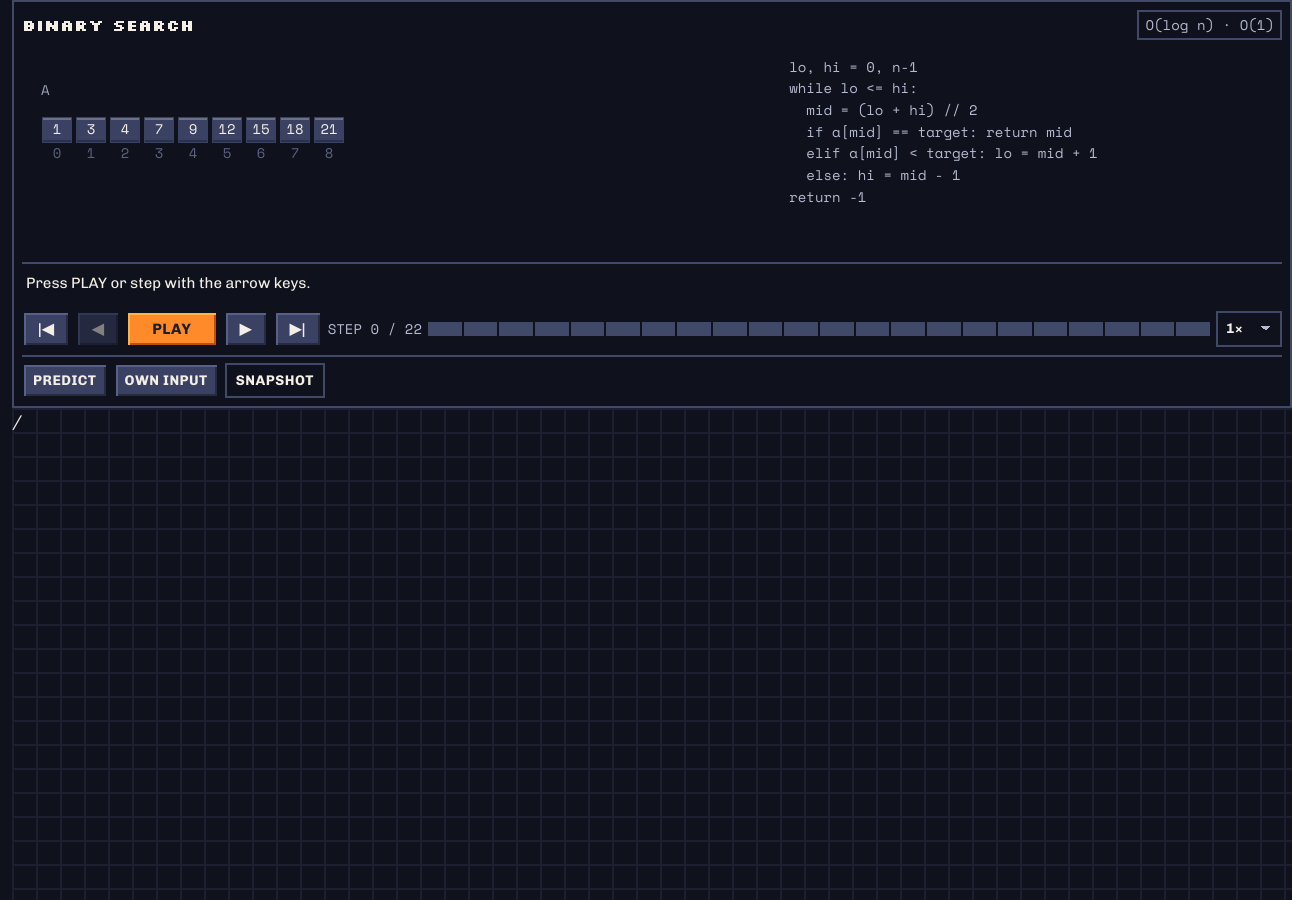
Test: AlgoPlayer (labs contract §4) › exposes the player in the light DOM: region, title, complexity, counter, caption, active code line (§4.1)
The image size is (1292, 900).
expect the element named "Player: " is shown: met, box [12,0,1291,408]
expect the text with test id "lab-complexity" reads "O(log n) · O(1)": met, box [1146,14,1274,35]
Click the button named "Step forward": (246, 328) [224,310,268,346]
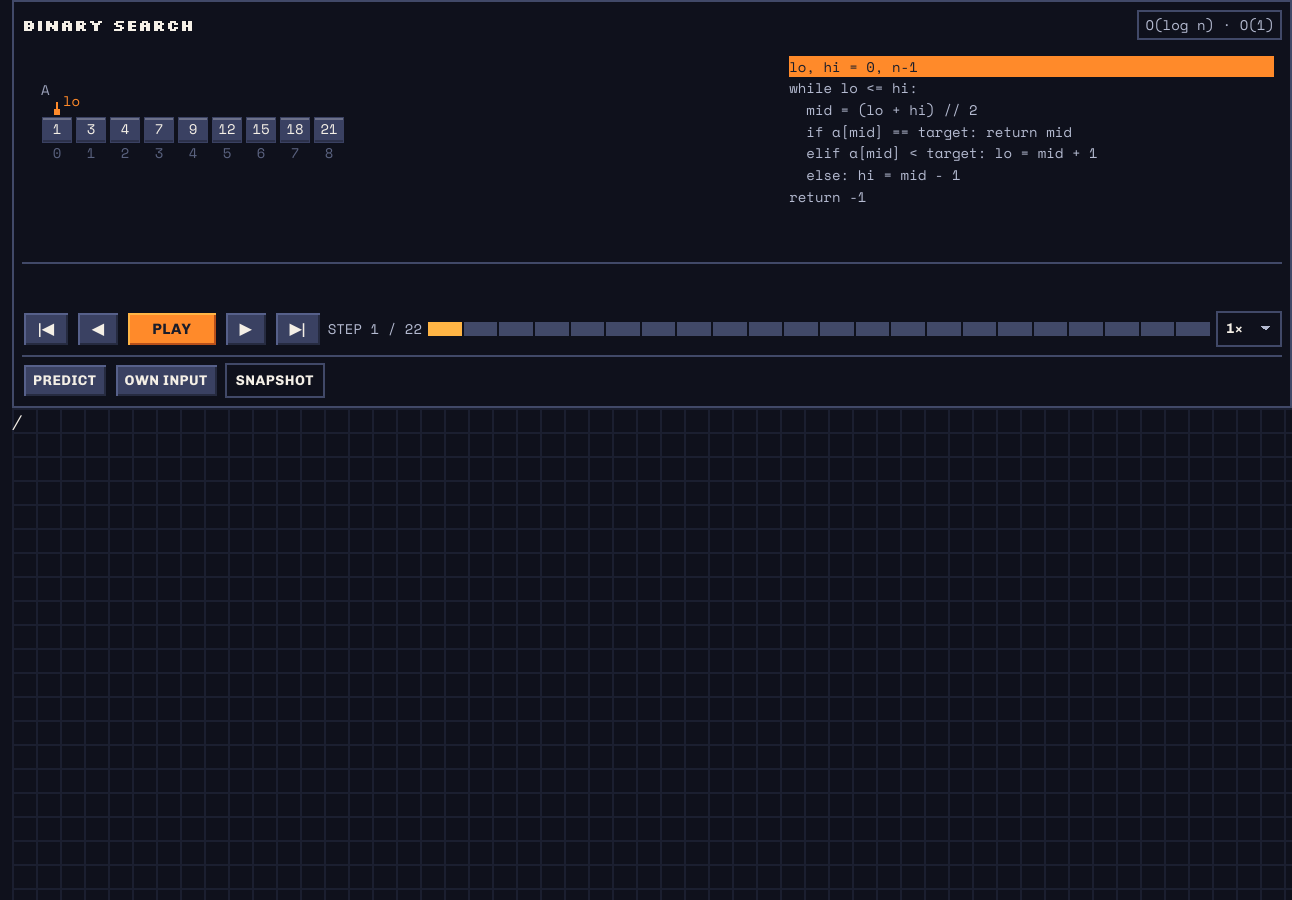
expect the list item "lo, hi = 0, n-1" is shown: met, box [789,56,1274,77]
expect the text with test id "lab-step-counter" reads "STEP 1 / 22": met, box [328,318,422,339]
